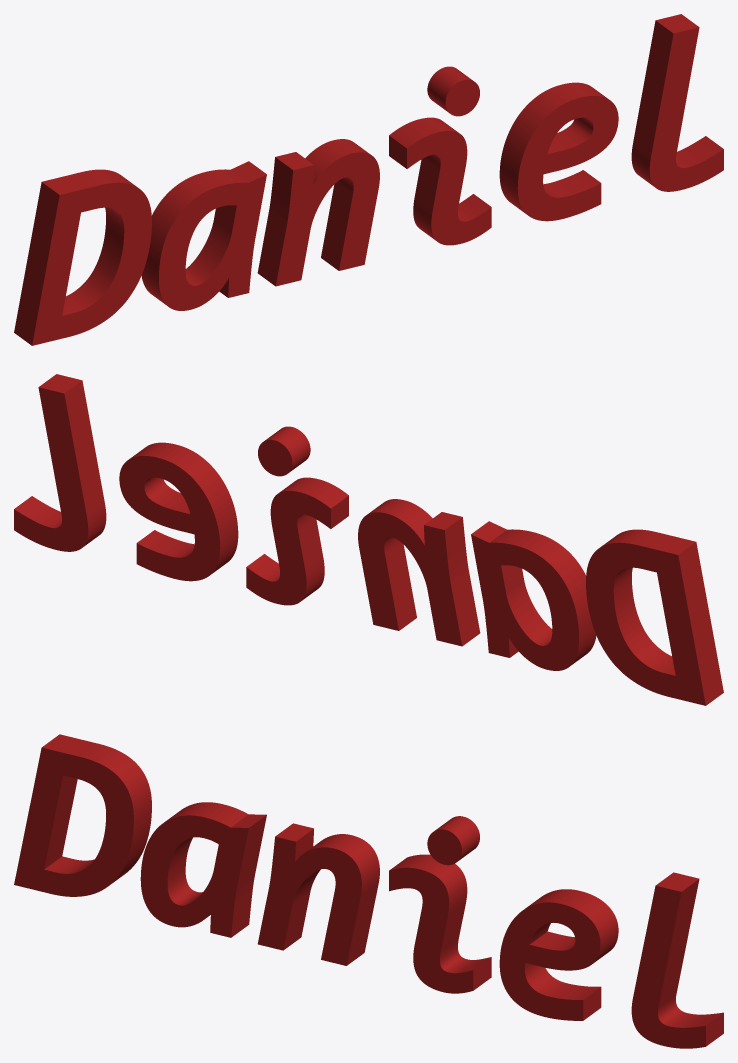
File: modeloTexto.glb
3 renders of one model, top to bottom at view 1: azimuth 30°, elevation 25°; view 2: azimuth 150°, elevation 25°; view 3: azimuth 330°, elevation 25°, orthographic.
Parts seen in each view (by area): view 1: Text; view 2: Text; view 3: Text.
Part boxes in pixels (x1,y1,x2,y2): Text: [14, 14, 723, 345]; Text: [14, 374, 723, 705]; Text: [14, 734, 723, 1048].
Bounding box in the file's own units: 2.43 × 0.5464 × 0.11.
